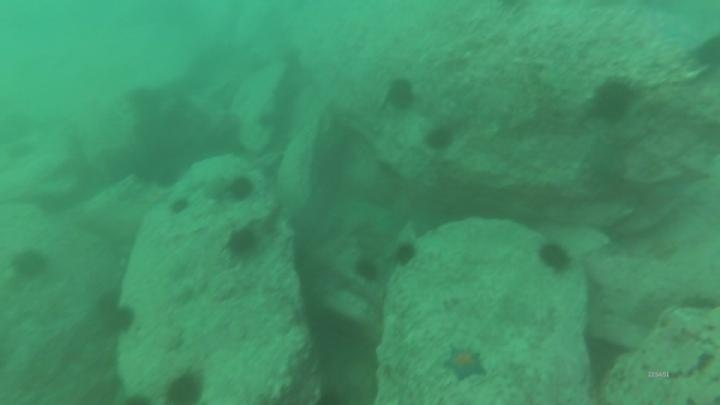echinus: (594, 83, 633, 121), (170, 376, 204, 405), (541, 246, 571, 270), (390, 82, 416, 109), (230, 230, 255, 257), (16, 255, 46, 277), (111, 308, 134, 331), (427, 129, 453, 147), (357, 260, 377, 282), (230, 179, 252, 198), (397, 246, 415, 265), (173, 200, 188, 213)
starfish: (585, 141, 621, 179), (446, 346, 486, 380)
